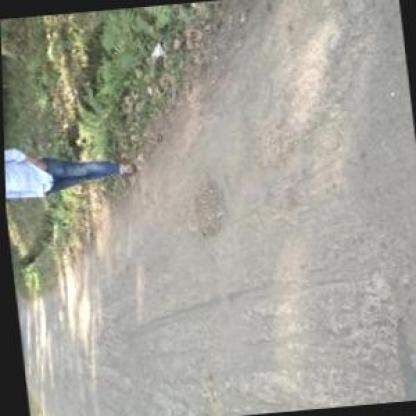pothole: (187, 176, 226, 240)
